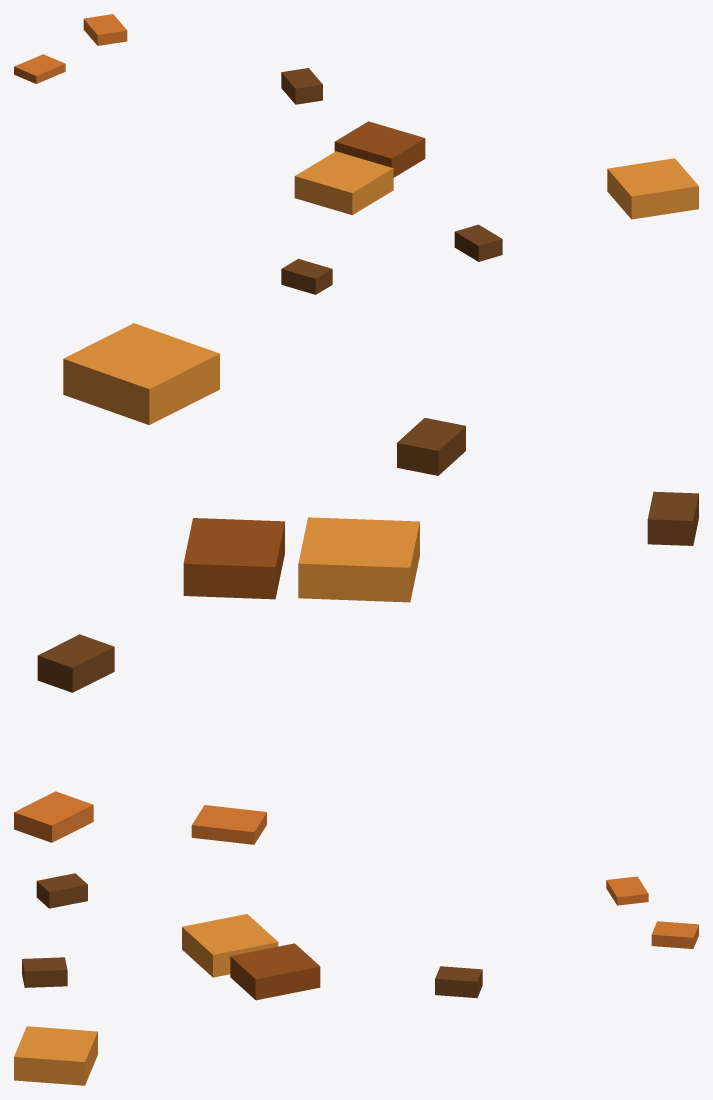
Rendered from Bricks3.FBX.
3 views of the same model, one above another, from view 1: azimuth 30°, elevation 25°; view 2: azimuth 150°, elevation 25°; view 3: azimuth 270°, elevation 25° (orthographic). The views are drawn at different scales.
Parts seen in each view (by area): view 1: Box183; view 2: Box183; view 3: Box183.
Boxes of the visible parts, left/top/right/bottom form: Box183: left=14, top=14, right=698, bottom=294; Box183: left=14, top=323, right=698, bottom=844; Box183: left=14, top=873, right=698, bottom=1085.
Bounding box in the file's own units: 325 × 20.29 × 472.
